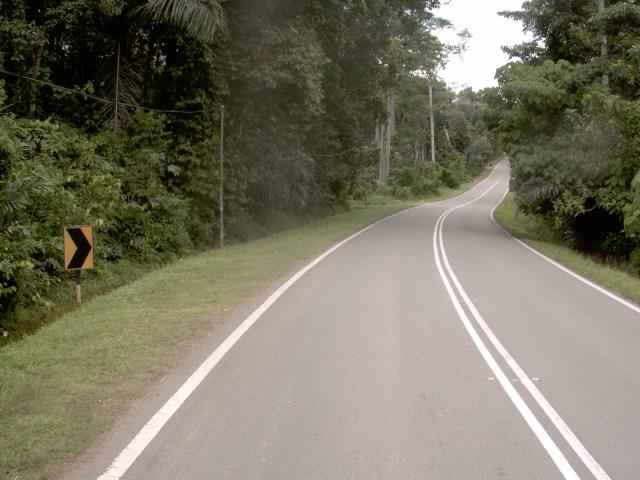traffic_sign: (55, 219, 102, 275)
